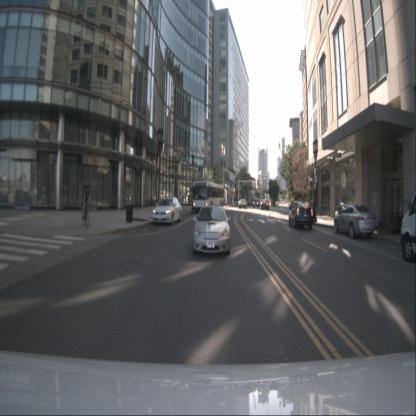vehicle-bicycle: (81, 185, 92, 229)
vehicle-bus-rigid: (192, 181, 225, 214), (171, 186, 190, 204)
vehicle-car: (192, 204, 230, 256), (334, 204, 375, 239), (400, 189, 416, 263), (152, 197, 182, 225), (289, 201, 313, 230), (260, 200, 270, 210), (238, 199, 246, 208), (252, 198, 260, 207)
vehicle-truck: (259, 196, 264, 205)
